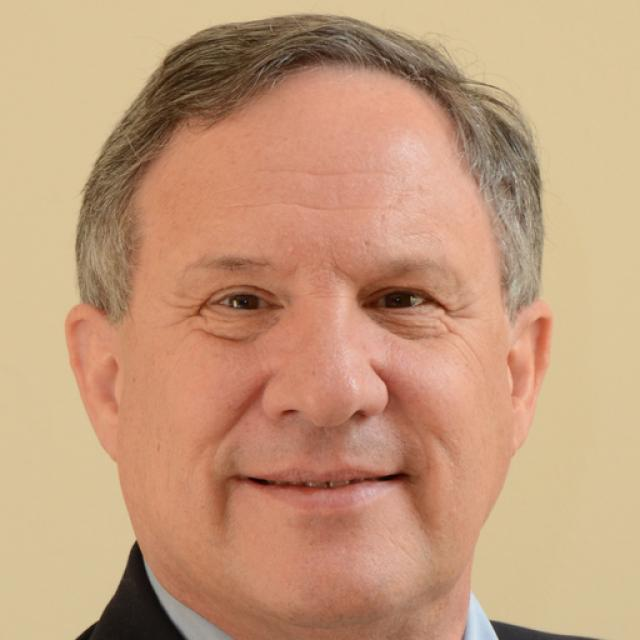Wrinkle: (255, 161, 412, 180), (226, 196, 411, 212)
